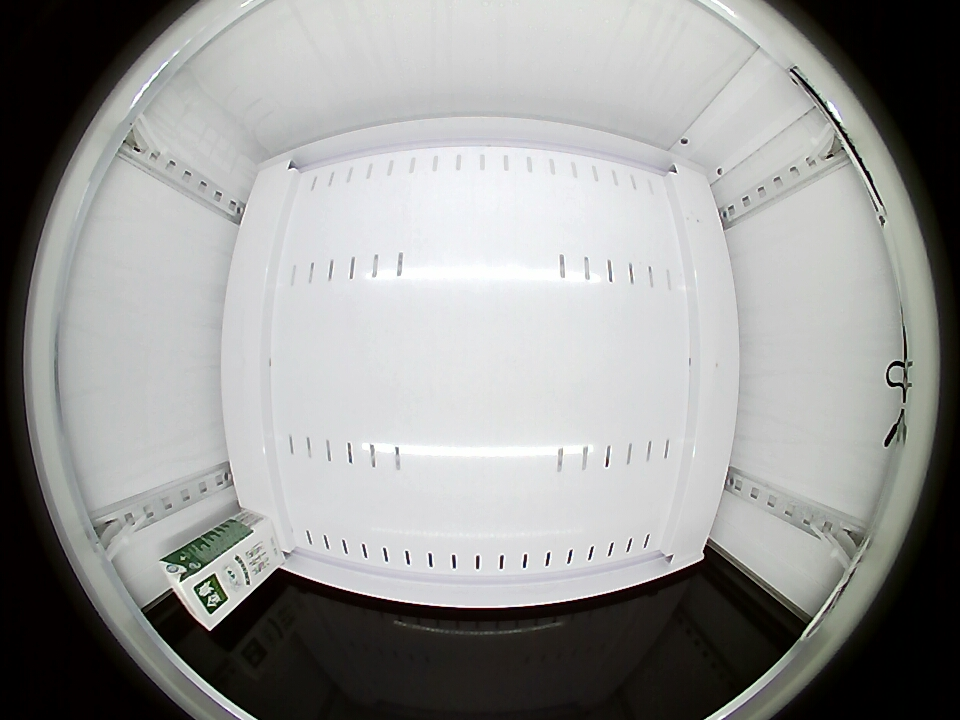jindian: (159, 541, 238, 630)
